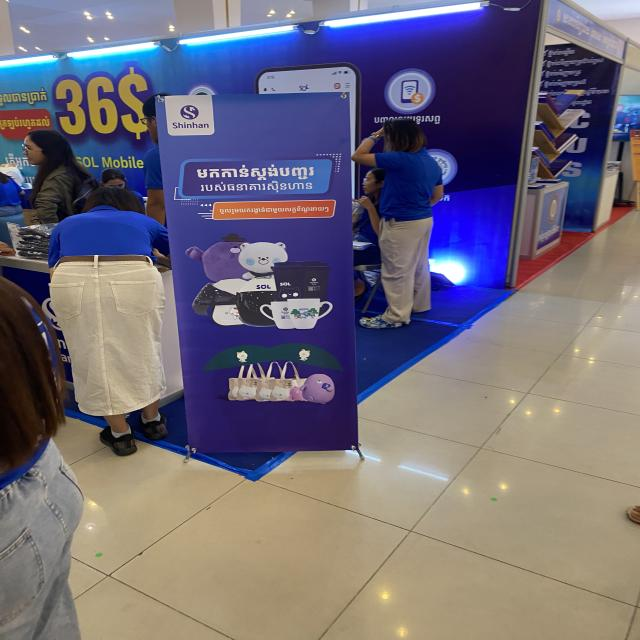728: (46, 65, 160, 148)
Yolov11_80vkh: (193, 162, 322, 183), (196, 179, 316, 194), (218, 202, 332, 216), (0, 113, 51, 132), (3, 86, 48, 106), (412, 113, 443, 126)
